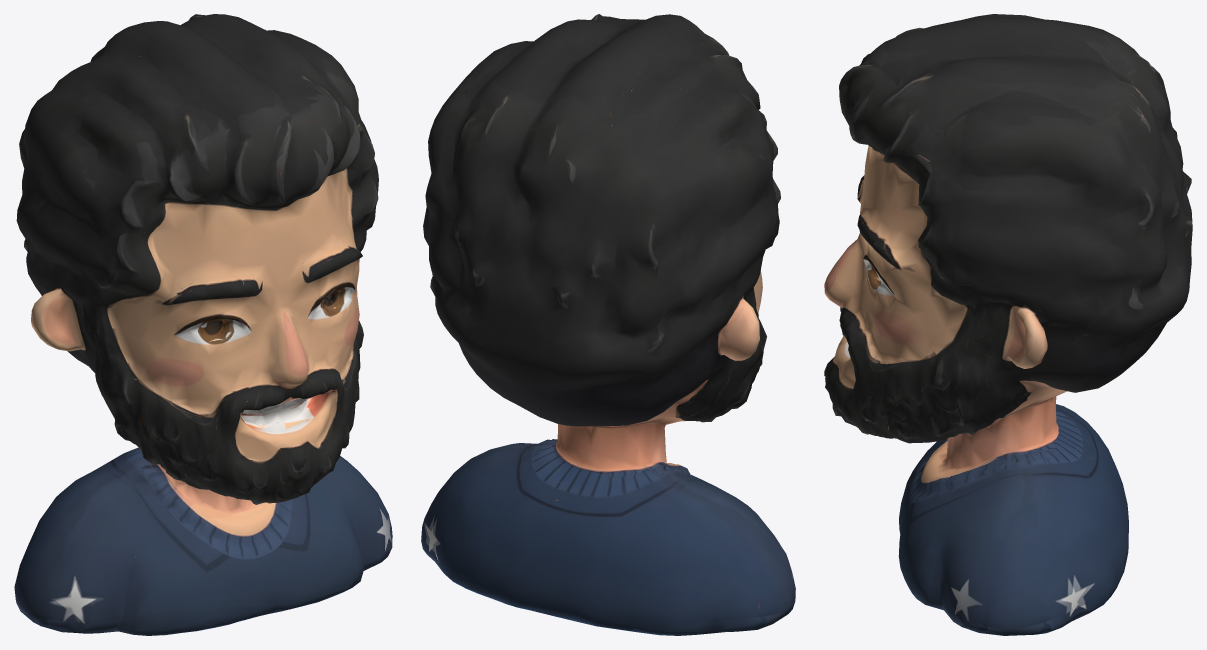
Rendered from umut.glb.
3 renders of one model, left to right at view 1: azimuth 30°, elevation 25°; view 2: azimuth 150°, elevation 25°; view 3: azimuth 270°, elevation 25°, orthographic. The views are drawn at different scales.
Parts seen in each view (by area): view 1: Object_4; view 2: Object_4; view 3: Object_4.
Boxes of the visible parts, left/top/right/bottom form: Object_4: left=14, top=14, right=392, bottom=635; Object_4: left=421, top=14, right=795, bottom=635; Object_4: left=824, top=14, right=1192, bottom=635.
Bounding box in the file's own units: 1.33 × 1.91 × 1.22.
1 material, 1 textured.
